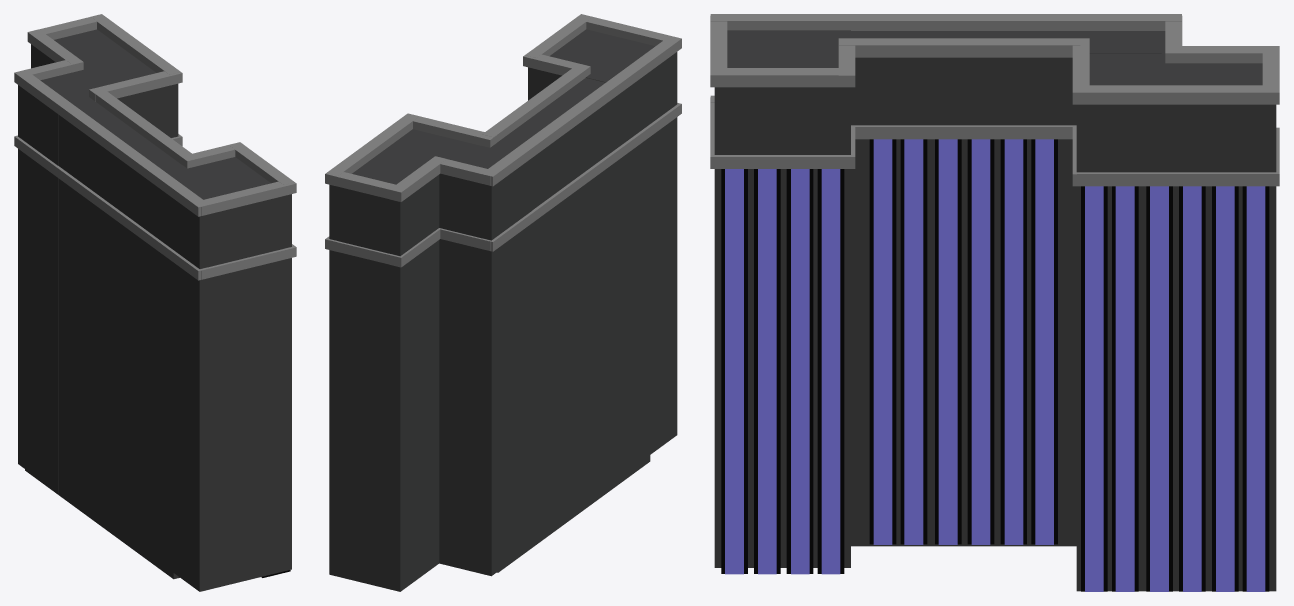
Rendered from Building3.fbx.
3 renders of one model, left to right at view 1: azimuth 30°, elevation 25°; view 2: azimuth 150°, elevation 25°; view 3: azimuth 270°, elevation 25°, orthographic. The views are drawn at different scales.
Parts seen in each view (by area): view 1: Cube, Cube.002, Cube.001, Cube.006, Cube.021, Cube.008, Cube.003, Cube.005, Cube.011, Cube.009, Cube.022, Cube.013 (+4 smaller); view 2: Cube.003, Cube.001, Cube.002, Cube, Cube.006, Cube.021, Cube.008, Cube.011, Cube.009, Cube.005, Cube.013, Cube.012 (+6 smaller); view 3: Cube.002, Cube, Cube.001, Cube.003, Cube.037, Cube.041, Cube.045, Cube.046, Cube.049, Cube.051, Cube.052, Cube.026 (+34 smaller).
Part boxes in pixels (bbox=[...]): Cube: bbox=[146, 157, 291, 591]; Cube.002: bbox=[25, 74, 181, 579]; Cube.001: bbox=[18, 53, 178, 492]; Cube.006: bbox=[14, 70, 209, 216]; Cube.021: bbox=[14, 135, 209, 280]; Cube.008: bbox=[93, 89, 198, 167]; Cube.003: bbox=[31, 29, 129, 68]; Cube.005: bbox=[201, 181, 296, 215]; Cube.011: bbox=[90, 14, 180, 74]; Cube.009: bbox=[89, 71, 182, 101]; Cube.022: bbox=[201, 246, 296, 279]; Cube.013: bbox=[27, 29, 83, 71]; Cube.003: bbox=[329, 155, 439, 591]; Cube.001: bbox=[377, 129, 532, 576]; Cube.002: bbox=[459, 78, 650, 572]; Cube: bbox=[528, 29, 677, 474]; Cube.006: bbox=[481, 35, 681, 186]; Cube.021: bbox=[481, 103, 681, 251]; Cube.008: bbox=[482, 63, 590, 142]; Cube.011: bbox=[325, 114, 417, 183]; Cube.009: bbox=[406, 113, 496, 147]; Cube.005: bbox=[580, 14, 669, 45]; Cube.013: bbox=[389, 156, 446, 201]; Cube.012: bbox=[327, 172, 395, 198]; Cube.002: bbox=[851, 31, 1161, 546]; Cube: bbox=[714, 30, 850, 567]; Cube.001: bbox=[1076, 31, 1178, 591]; Cube.003: bbox=[1178, 63, 1276, 591]; Cube.037: bbox=[1246, 186, 1265, 591]; Cube.041: bbox=[1115, 186, 1134, 591]; Cube.045: bbox=[873, 139, 892, 544]; Cube.046: bbox=[904, 139, 923, 544]; Cube.049: bbox=[971, 139, 990, 544]; Cube.051: bbox=[1004, 139, 1023, 544]; Cube.052: bbox=[938, 139, 957, 544]; Cube.026: bbox=[821, 169, 840, 574].
Size of the model in its own units: 904 by 2697 by 2767.
